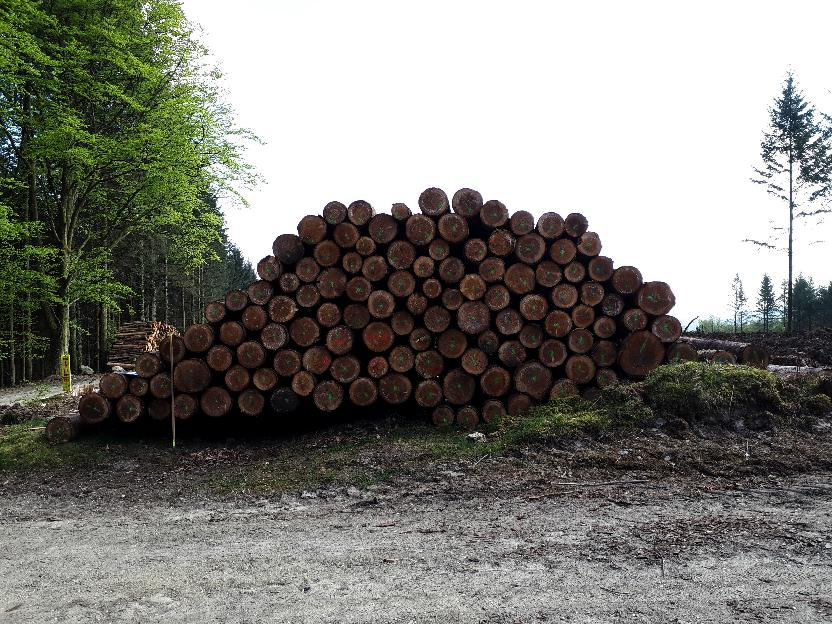etalon: (170, 334, 178, 448)
object: (618, 328, 670, 374), (640, 276, 678, 314), (516, 359, 552, 396), (404, 211, 438, 247), (174, 358, 212, 390), (378, 372, 414, 404), (459, 301, 492, 334), (501, 262, 536, 292), (514, 232, 546, 264), (444, 370, 476, 402), (313, 381, 345, 413), (289, 314, 320, 346), (669, 340, 701, 370), (481, 367, 513, 397), (346, 376, 378, 406), (302, 345, 334, 374), (364, 322, 394, 352), (316, 269, 348, 297), (436, 328, 468, 356), (203, 386, 234, 414), (274, 233, 304, 261), (237, 340, 267, 368), (415, 349, 445, 377), (270, 387, 300, 415), (81, 392, 109, 422), (615, 263, 641, 295), (564, 356, 596, 382), (369, 212, 397, 241), (451, 190, 482, 216), (417, 189, 449, 214), (496, 341, 528, 366), (480, 198, 508, 226), (368, 291, 396, 319), (521, 292, 549, 320), (269, 296, 297, 324), (540, 338, 568, 366), (388, 344, 416, 372), (414, 378, 442, 406), (330, 356, 360, 382), (438, 214, 470, 238), (245, 280, 277, 304), (652, 316, 684, 340), (326, 327, 354, 354), (460, 348, 488, 375), (134, 352, 162, 379), (741, 343, 767, 372), (237, 390, 264, 417), (298, 216, 326, 242), (388, 240, 416, 266), (362, 254, 390, 280), (388, 271, 416, 297), (425, 306, 453, 332), (497, 306, 523, 334), (545, 310, 573, 336), (518, 322, 546, 348), (206, 344, 234, 370), (274, 349, 302, 375), (550, 284, 580, 308), (184, 325, 214, 349), (591, 338, 615, 368), (550, 378, 580, 401), (550, 238, 576, 264), (589, 254, 615, 280), (439, 256, 465, 282), (257, 256, 283, 282), (571, 302, 597, 328), (172, 393, 198, 419), (46, 418, 72, 444), (491, 229, 516, 256), (536, 261, 564, 285), (580, 277, 604, 305), (296, 282, 324, 306), (484, 286, 512, 310), (566, 328, 594, 352), (710, 347, 738, 371), (507, 394, 535, 418), (290, 372, 316, 397), (334, 223, 361, 247), (481, 400, 510, 422), (540, 209, 564, 235), (576, 232, 602, 256), (479, 256, 505, 280), (462, 272, 488, 296), (347, 276, 373, 300), (243, 305, 269, 329), (218, 320, 244, 344), (160, 334, 184, 360), (119, 394, 143, 420), (346, 301, 368, 329), (262, 323, 288, 346), (430, 403, 458, 424), (510, 210, 534, 234), (252, 367, 277, 390), (313, 240, 339, 262), (102, 371, 124, 397), (204, 300, 228, 323), (227, 365, 251, 388), (565, 211, 587, 235), (297, 257, 321, 279), (563, 260, 587, 282), (318, 302, 340, 326), (392, 310, 414, 334), (594, 316, 618, 338), (350, 199, 370, 225), (604, 290, 624, 316), (409, 291, 429, 317), (623, 308, 649, 328), (324, 202, 346, 224), (410, 327, 432, 349), (458, 403, 480, 425), (442, 289, 466, 309), (152, 372, 172, 396), (150, 399, 171, 421), (466, 238, 486, 260), (278, 273, 300, 293), (226, 289, 248, 309), (368, 355, 388, 377), (596, 368, 618, 388), (416, 255, 435, 277), (427, 240, 450, 258), (421, 278, 444, 296), (480, 333, 500, 353), (130, 377, 151, 395), (342, 252, 362, 270), (356, 236, 376, 252), (393, 202, 409, 220)
pile: (43, 185, 767, 444)
